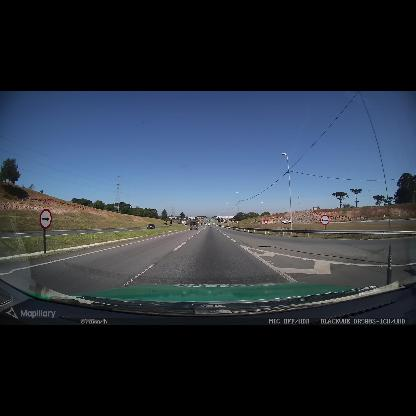R-2: (263, 220, 269, 225)
R-24a: (39, 209, 52, 229), (320, 215, 330, 225)
